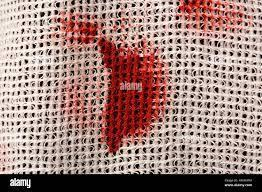blood: (101, 42, 167, 150), (176, 1, 222, 28), (63, 18, 99, 47)
